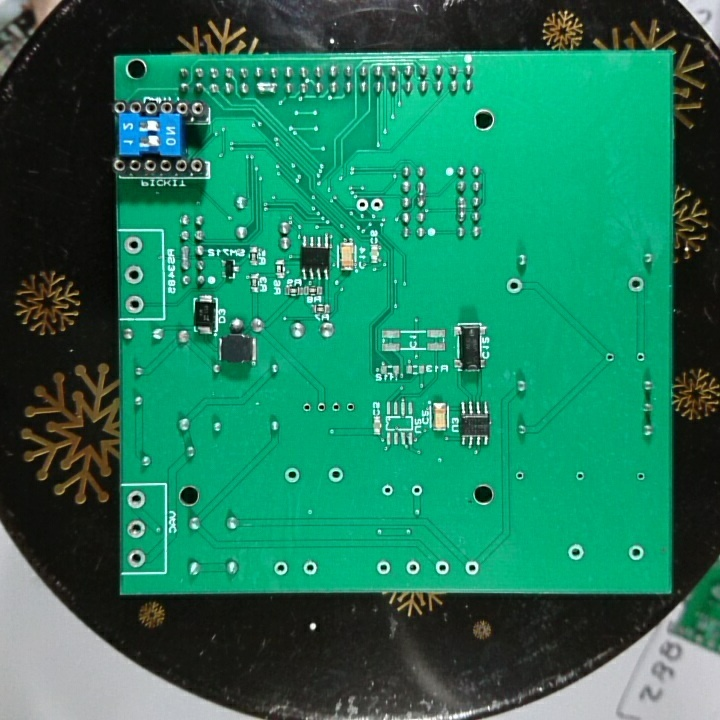F: (125, 488, 148, 513), (123, 294, 148, 316), (125, 546, 148, 569), (125, 517, 148, 540), (123, 263, 146, 286), (626, 273, 646, 297), (625, 543, 647, 564), (326, 463, 346, 486), (122, 235, 145, 255), (373, 556, 394, 577), (300, 558, 321, 579), (504, 275, 525, 295), (402, 557, 423, 577), (282, 464, 302, 485), (565, 543, 585, 563), (270, 559, 291, 578), (433, 557, 451, 578), (352, 195, 371, 214), (368, 195, 386, 215), (462, 558, 480, 576), (380, 480, 394, 500), (328, 400, 344, 416), (343, 398, 357, 415), (299, 400, 314, 415), (313, 400, 328, 415), (602, 349, 616, 365), (633, 468, 647, 484), (634, 347, 647, 364), (410, 483, 423, 499), (573, 469, 586, 483), (513, 469, 526, 483)
P: (253, 79, 280, 98), (414, 178, 428, 207), (178, 243, 191, 271), (454, 193, 466, 221)
